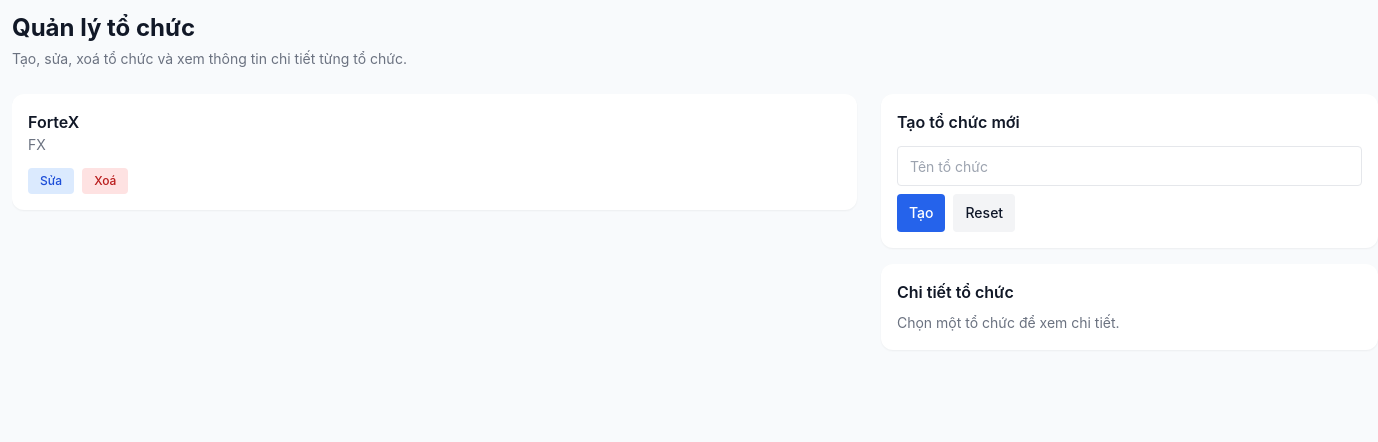
Test case: /admin/organizations — G1: giờ tạo hiển thị theo giờ Việt Nam › created_at 10:00 +07:00 hiện '10:00 28/09/2026' khi máy chạy UTC
Click the heading "ForteX": x=54, y=122 x1=28 y1=112 x2=79 y2=132
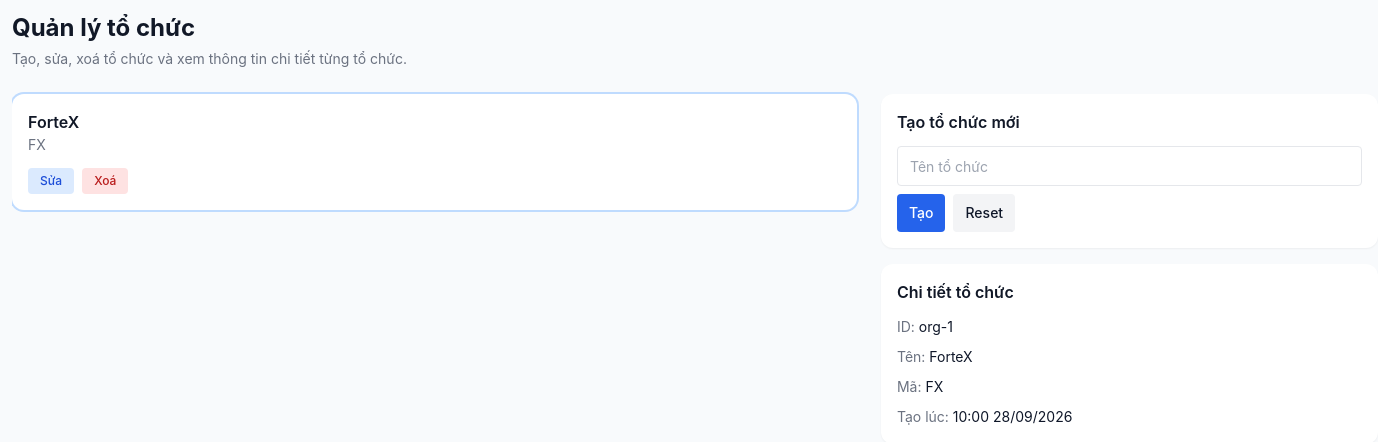
Now the text "10:00 28/09/2026" is shown, box x1=953 y1=408 x2=1072 y2=425
